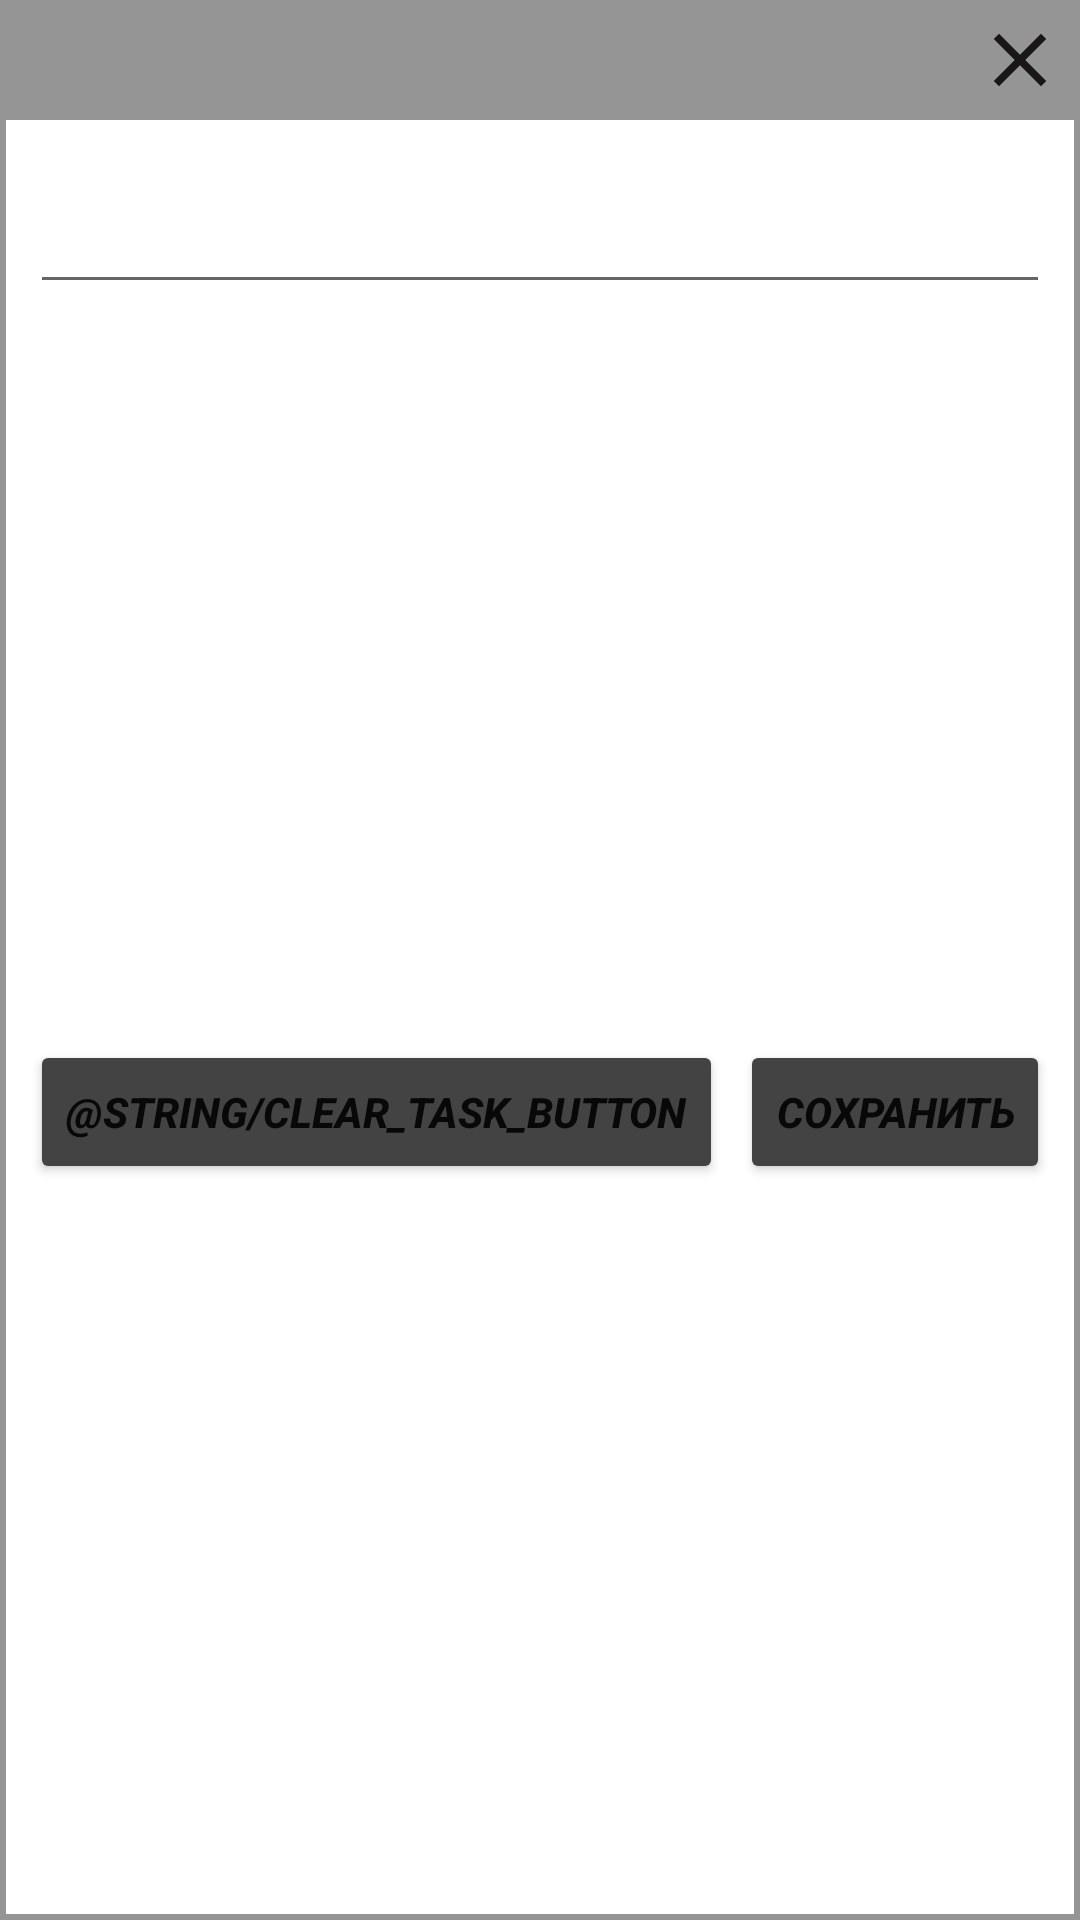

Icon click points for this 1080x1920 phone screenshot, format point (x, y):
animate close: point (1020, 60)
